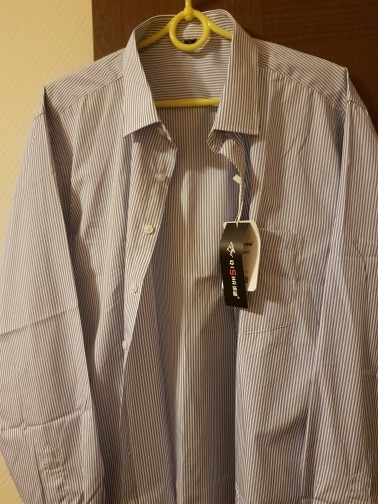shirts: (10, 14, 375, 504)
